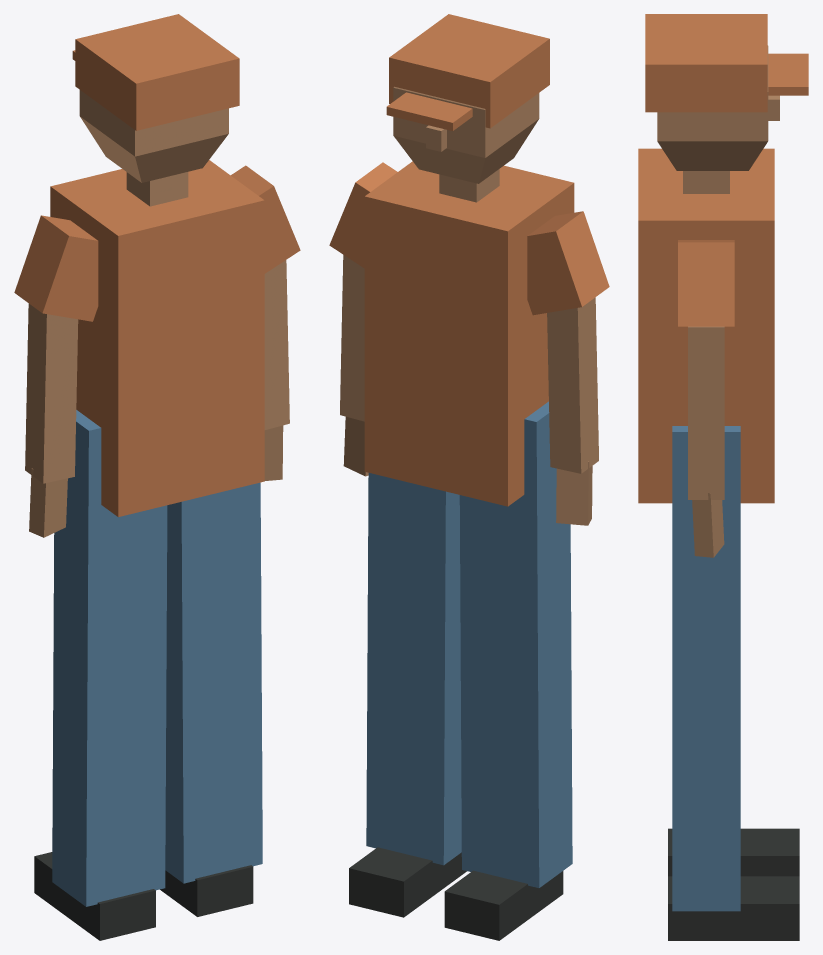
The model's file is pedestrian_01.glb.
The picture shows the model from 3 angles, left to right: view 1: azimuth 30°, elevation 25°; view 2: azimuth 150°, elevation 25°; view 3: azimuth 270°, elevation 25°; orthographic projection. The views are drawn at different scales.
Parts seen in each view (by area): view 1: pedestrian_01 crowd_trousers, pedestrian_01 crowd_shirt, pedestrian_01 crowd_skin, pedestrian_01 crowd_accessory, pedestrian_01 crowd_rubber; view 2: pedestrian_01 crowd_trousers, pedestrian_01 crowd_shirt, pedestrian_01 crowd_skin, pedestrian_01 crowd_accessory, pedestrian_01 crowd_rubber; view 3: pedestrian_01 crowd_shirt, pedestrian_01 crowd_trousers, pedestrian_01 crowd_skin, pedestrian_01 crowd_accessory, pedestrian_01 crowd_rubber.
Part boxes in pixels (x1=…): pedestrian_01 crowd_trousers: x1=52, y1=410, x2=262, y2=906; pedestrian_01 crowd_shirt: x1=14, y1=160, x2=300, y2=517; pedestrian_01 crowd_skin: x1=25, y1=90, x2=289, y2=537; pedestrian_01 crowd_accessory: x1=72, y1=14, x2=239, y2=130; pedestrian_01 crowd_rubber: x1=34, y1=852, x2=253, y2=940; pedestrian_01 crowd_trousers: x1=366, y1=401, x2=572, y2=887; pedestrian_01 crowd_shirt: x1=329, y1=161, x2=609, y2=506; pedestrian_01 crowd_skin: x1=340, y1=86, x2=598, y2=525; pedestrian_01 crowd_accessory: x1=386, y1=14, x2=549, y2=130; pedestrian_01 crowd_rubber: x1=349, y1=847, x2=563, y2=940; pedestrian_01 crowd_shirt: x1=638, y1=148, x2=774, y2=503; pedestrian_01 crowd_trousers: x1=672, y1=426, x2=740, y2=911; pedestrian_01 crowd_skin: x1=657, y1=45, x2=779, y2=557; pedestrian_01 crowd_accessory: x1=645, y1=14, x2=808, y2=112; pedestrian_01 crowd_rubber: x1=668, y1=828, x2=799, y2=940.
Bounding box in the file's own units: 0.5717 × 1.82 × 0.325.
